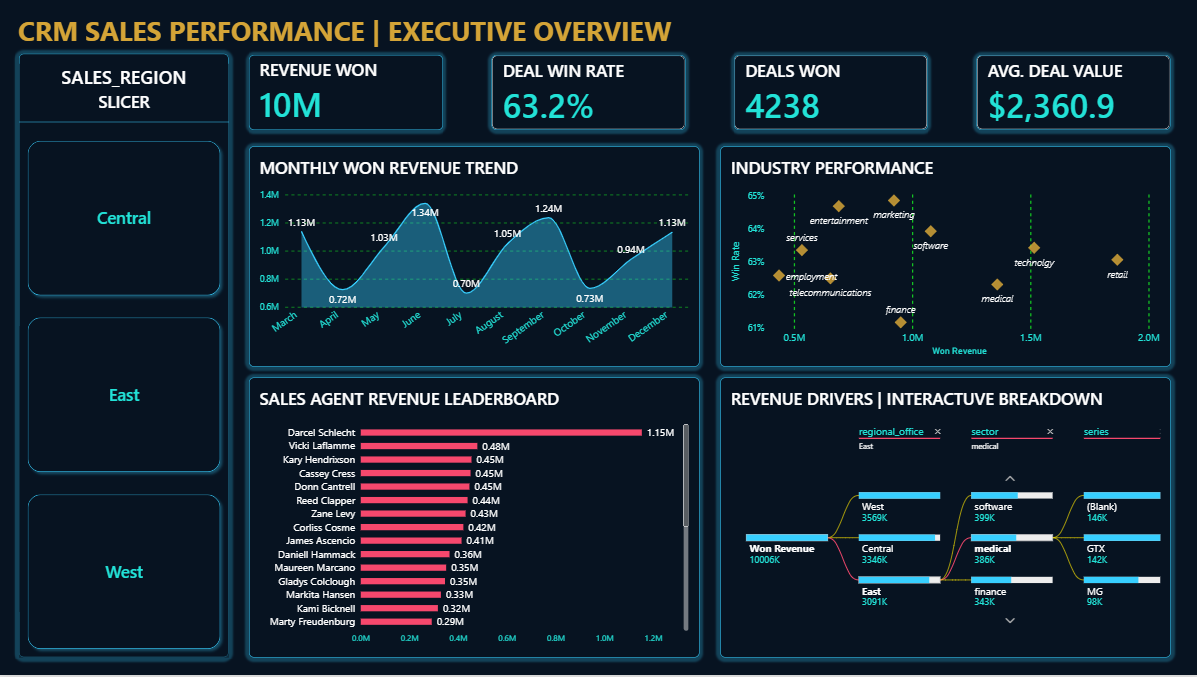

The page's visual inventory and layout, read from the dashboard file:
{"tool":"powerbi","page":{"name":"Page 1","canvas":[1920,1080],"ordinal":0},"visuals":[{"type":"textbox","box":[10,0,1242,86],"z":0},{"type":"shape","box":[32.5,86.6,335.4,965.2],"z":1},{"type":"cardVisual","fields":{"Data":["Measure.Won Revenue"]},"box":[400,87.5,310,120],"z":2},{"type":"cardVisual","fields":{"Data":["Measure.Win Rate"]},"box":[788.3,87.5,310,120],"z":3},{"type":"cardVisual","fields":{"Data":["Measure.Won Deals"]},"box":[1176.7,87.5,310,120],"z":4},{"type":"cardVisual","fields":{"Data":["Measure.Avg Deal Size"]},"box":[1565,87.5,310,120],"z":5},{"type":"areaChart","title":"MONTHLY WON REVENUE TREND","fields":{"Category":["sales_pipeline.close_date.Variation.Date Hierarchy.Month"],"Y":["Measure.Won Revenue"]},"box":[400.4,233.7,720.7,352.8],"z":6},{"type":"scatterChart","title":"INDUSTRY PERFORMANCE","fields":{"Category":["accounts.sector"],"X":["Measure.Won Revenue"],"Y":["Measure.Win Rate"]},"box":[1153.5,233.7,720.7,352.8],"z":7},{"type":"clusteredBarChart","title":"SALES AGENT REVENUE LEADERBOARD","fields":{"Category":["sales_teams.sales_agent"],"Y":["Measure.Won Revenue"]},"box":[400.4,603.8,720.7,448],"z":8},{"type":"decompositionTreeVisual","title":"REVENUE DRIVERS | INTERACTUVE BREAKDOWN","fields":{"Analyze":["Measure.Won Revenue"],"ExplainBy":["sales_teams.regional_office","accounts.sector","products.series"]},"box":[1153,604,721,448],"z":9},{"type":"advancedSlicerVisual","title":"SALES_REGION","fields":{"Values":["sales_teams.regional_office"]},"box":[32,102,336,950],"z":10}]}

Visuals, with their boxes in screenshot pixels (x1, y1, x2, y2), scaled from the page's 1920x1080 canvas onto the 1197x677 screenshot:
textbox: bbox=(6, 0, 781, 54)
shape: bbox=(20, 54, 229, 659)
cardVisual - Measure.Won Revenue: bbox=(249, 55, 443, 130)
cardVisual - Measure.Win Rate: bbox=(491, 55, 685, 130)
cardVisual - Measure.Won Deals: bbox=(734, 55, 927, 130)
cardVisual - Measure.Avg Deal Size: bbox=(976, 55, 1169, 130)
"MONTHLY WON REVENUE TREND" areaChart: bbox=(250, 146, 699, 368)
"INDUSTRY PERFORMANCE" scatterChart: bbox=(719, 146, 1168, 368)
"SALES AGENT REVENUE LEADERBOARD" clusteredBarChart: bbox=(250, 378, 699, 659)
"REVENUE DRIVERS | INTERACTUVE BREAKDOWN" decompositionTreeVisual: bbox=(719, 379, 1168, 659)
"SALES_REGION" advancedSlicerVisual: bbox=(20, 64, 229, 659)
